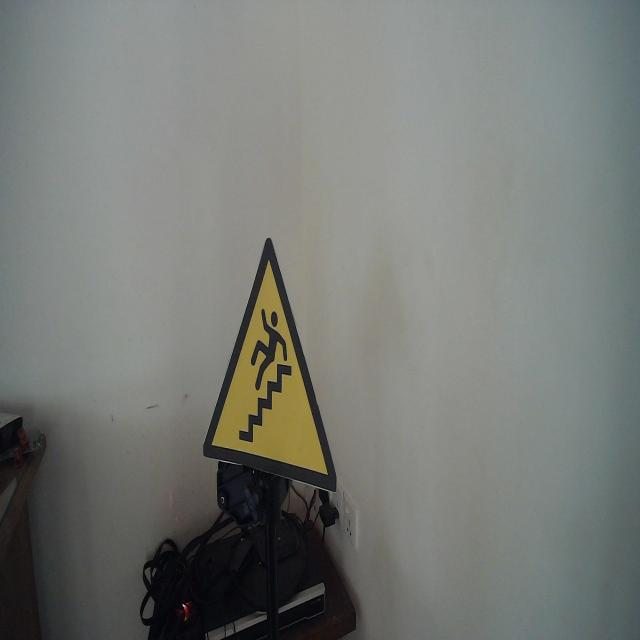stairs: (202, 235, 338, 496)
